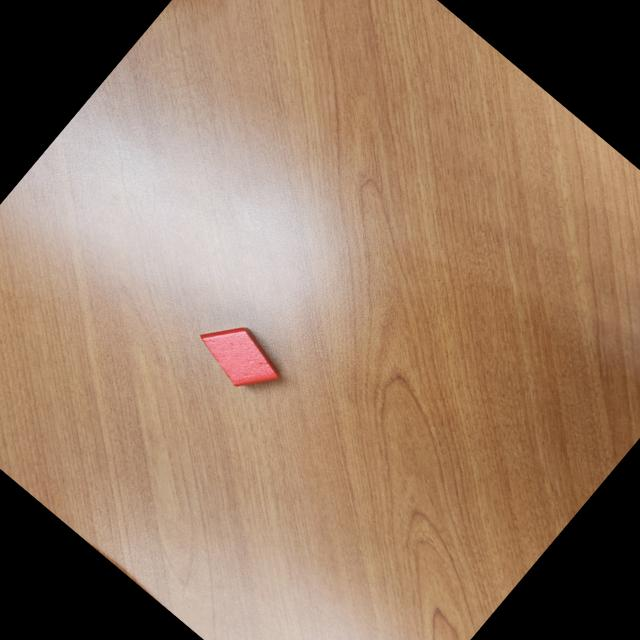red: (189, 308, 291, 405)
